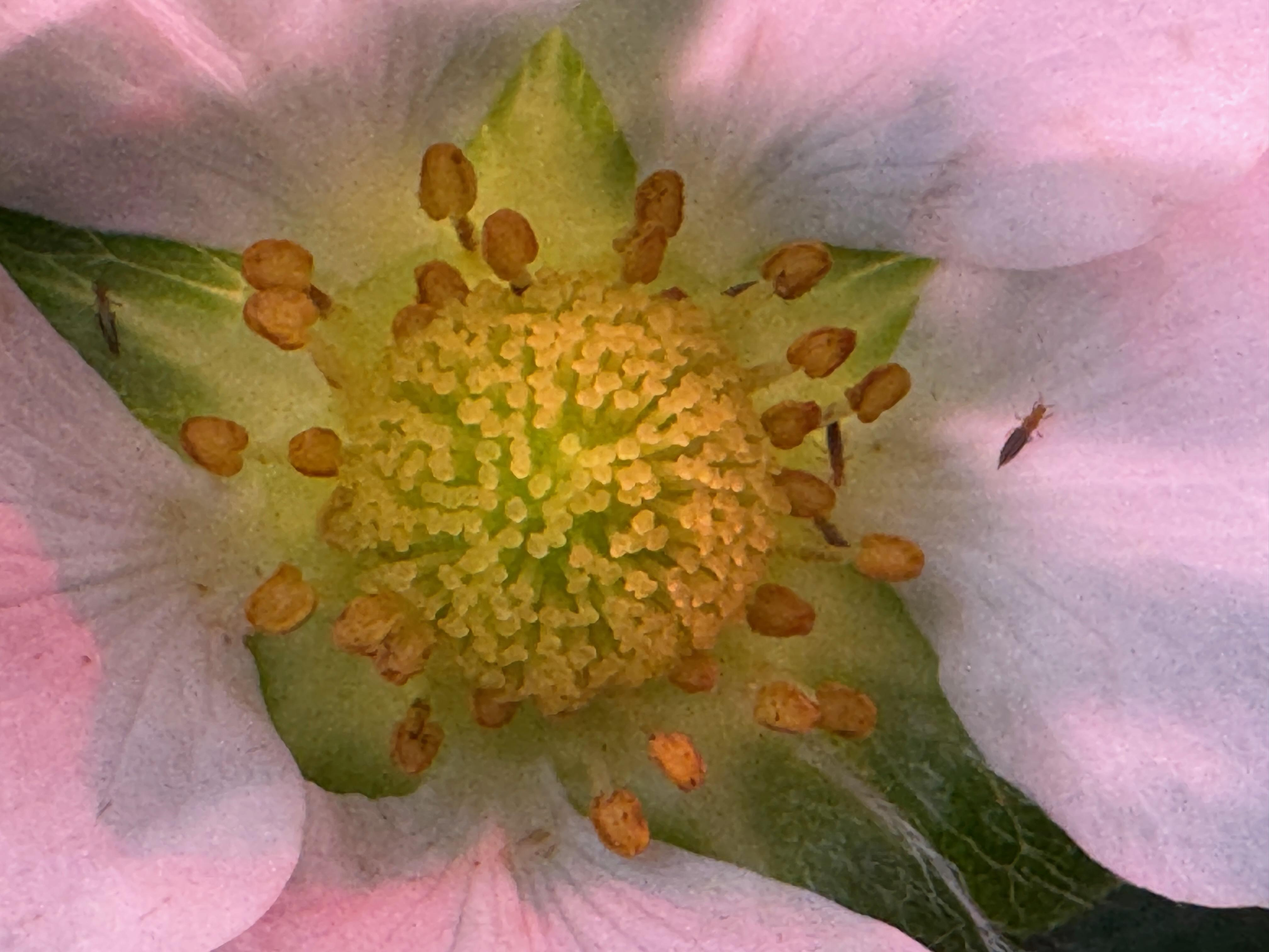tiny_pests: (974, 378, 1086, 483), (815, 401, 866, 502)
